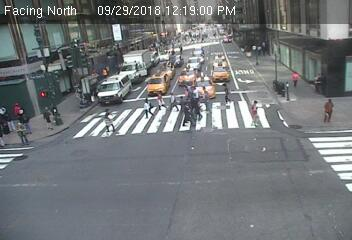car: (98, 75, 132, 105), (117, 51, 150, 78), (193, 75, 215, 102), (146, 71, 170, 95), (211, 64, 231, 85), (177, 68, 198, 86), (186, 57, 202, 70), (146, 50, 159, 64), (160, 62, 173, 75), (170, 53, 182, 65), (213, 54, 225, 63), (158, 51, 168, 60), (224, 36, 233, 43)
